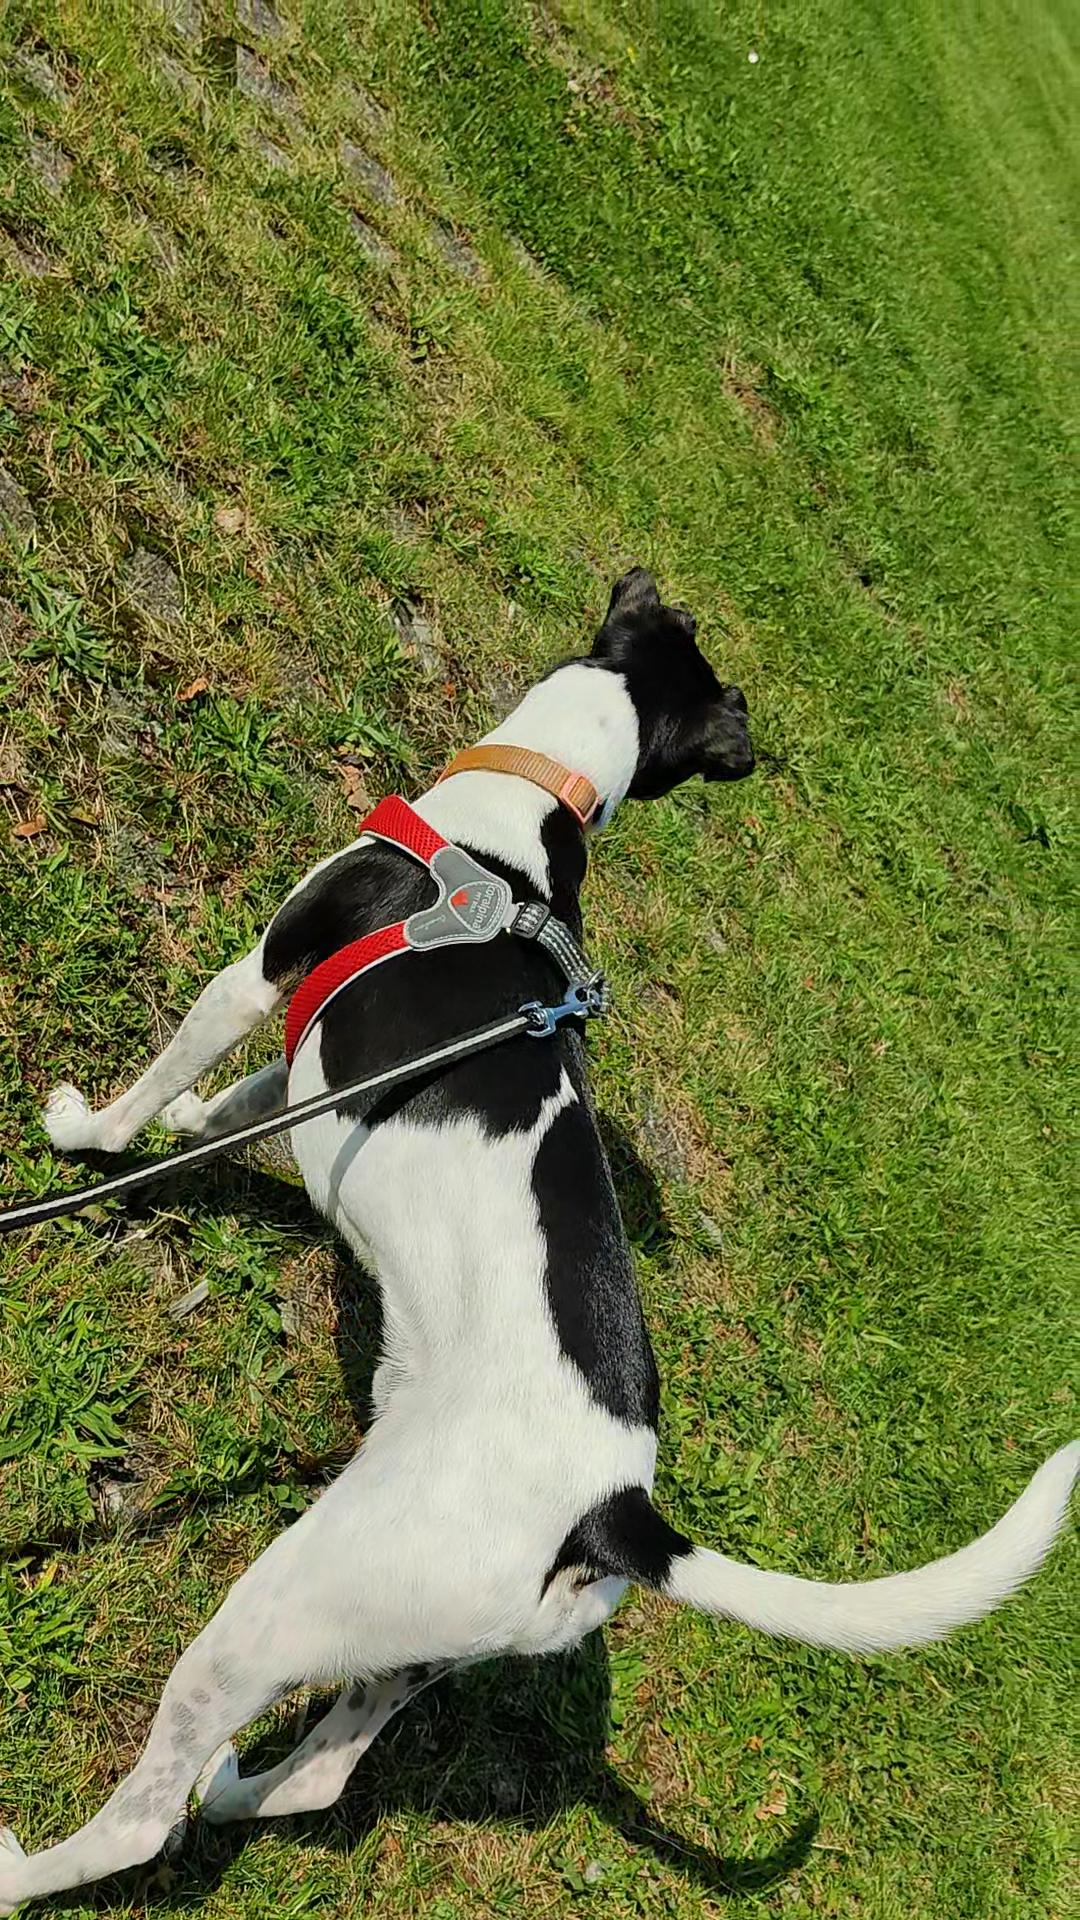Dog: (0, 563, 1079, 1919)
